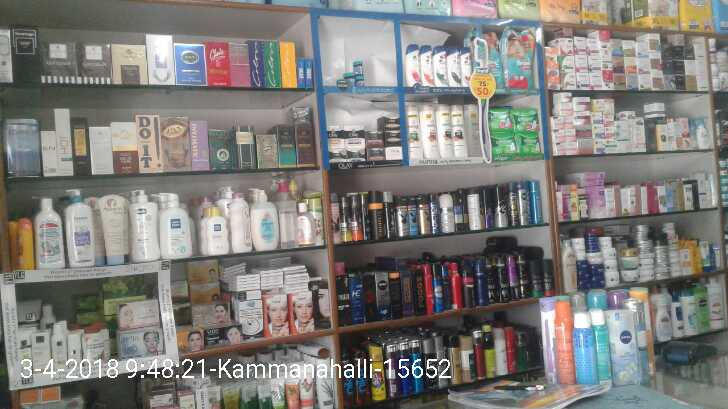vicks: (342, 60, 366, 84)
